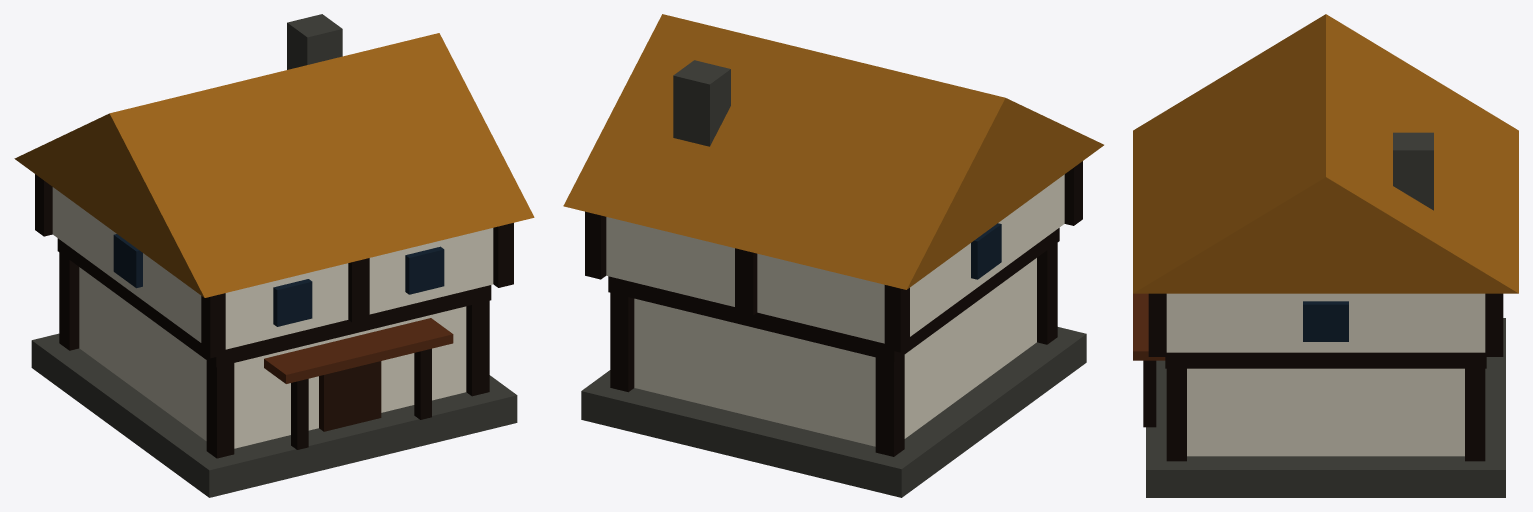
Rendered from house_t2_v4.glb.
The picture shows the model from 3 angles, left to right: view 1: azimuth 30°, elevation 25°; view 2: azimuth 150°, elevation 25°; view 3: azimuth 270°, elevation 25°; orthographic projection. The views are drawn at different scales.
Parts seen in each view (by area): view 1: house_t2_v4; view 2: house_t2_v4; view 3: house_t2_v4.
Boxes of the visible parts, left/top/right/bottom form: house_t2_v4: left=14, top=14, right=534, bottom=497; house_t2_v4: left=563, top=14, right=1103, bottom=497; house_t2_v4: left=1133, top=14, right=1518, bottom=497.
Bounding box in the file's own units: 0.75 × 0.7 × 0.75.
1 material, 1 textured.
